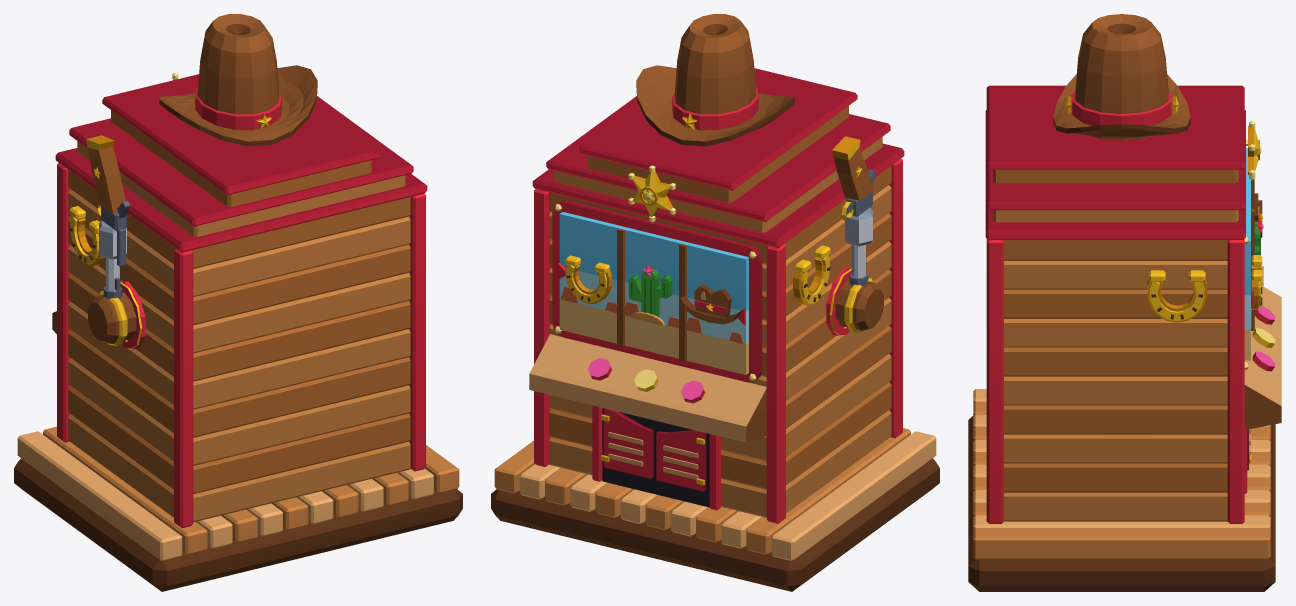
Rendered from WildWestMachine.glb.
3 views of the same model, side by side, from view 1: azimuth 30°, elevation 25°; view 2: azimuth 150°, elevation 25°; view 3: azimuth 270°, elevation 25° (orthographic). The views are drawn at different scales.
Parts seen in each view (by area): view 1: Cabinet, Base, Topper, Lever; view 2: Cabinet, Base, Screen, Topper, Lever; view 3: Cabinet, Base, Topper, Screen.
Boxes of the visible parts, x1,y1,x2,y2 form: Cabinet: [52, 73, 427, 528]; Base: [14, 426, 462, 591]; Topper: [159, 14, 317, 146]; Lever: [86, 135, 136, 345]; Cabinet: [529, 68, 904, 523]; Base: [491, 428, 939, 591]; Screen: [558, 212, 748, 374]; Topper: [636, 14, 794, 146]; Lever: [832, 136, 883, 332]; Cabinet: [985, 85, 1281, 523]; Base: [968, 389, 1275, 591]; Topper: [1053, 14, 1190, 140]; Screen: [1244, 148, 1263, 360].
Size of the model in its own units: 6 by 8.87 by 5.1.
Materials: 1 (1 with a texture image).
